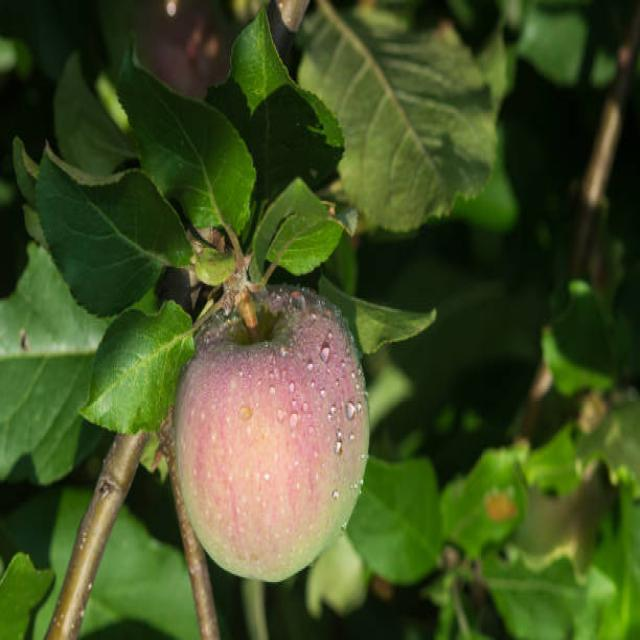Unripe: (173, 285, 370, 584)
